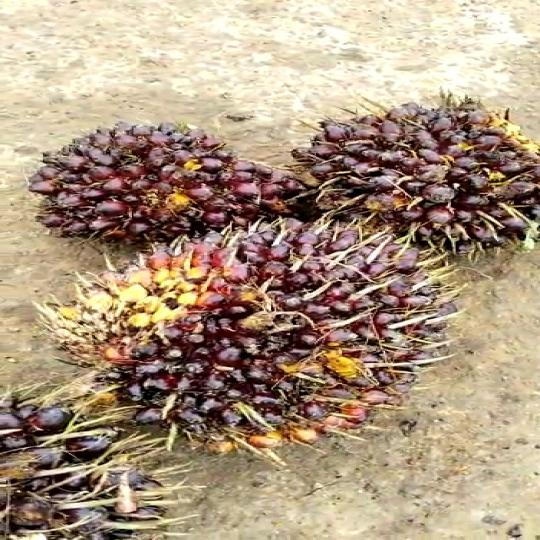kurang masak: (39, 213, 468, 471), (272, 77, 540, 262), (62, 112, 295, 244)
